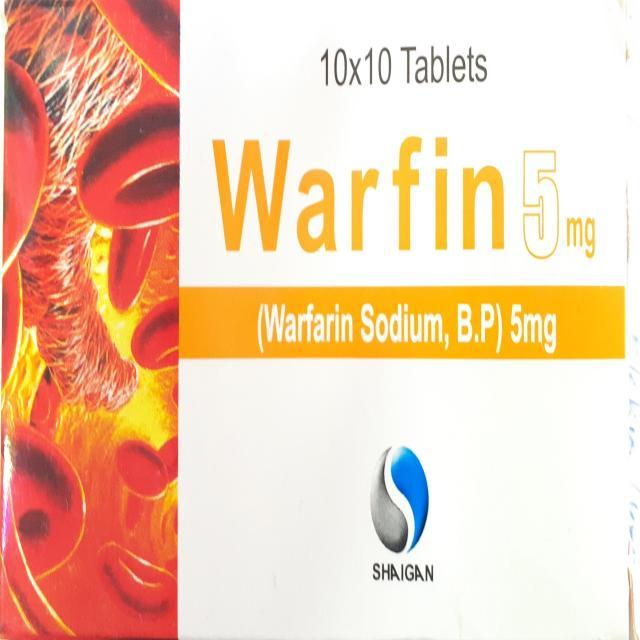drug-name: (207, 133, 512, 254)
